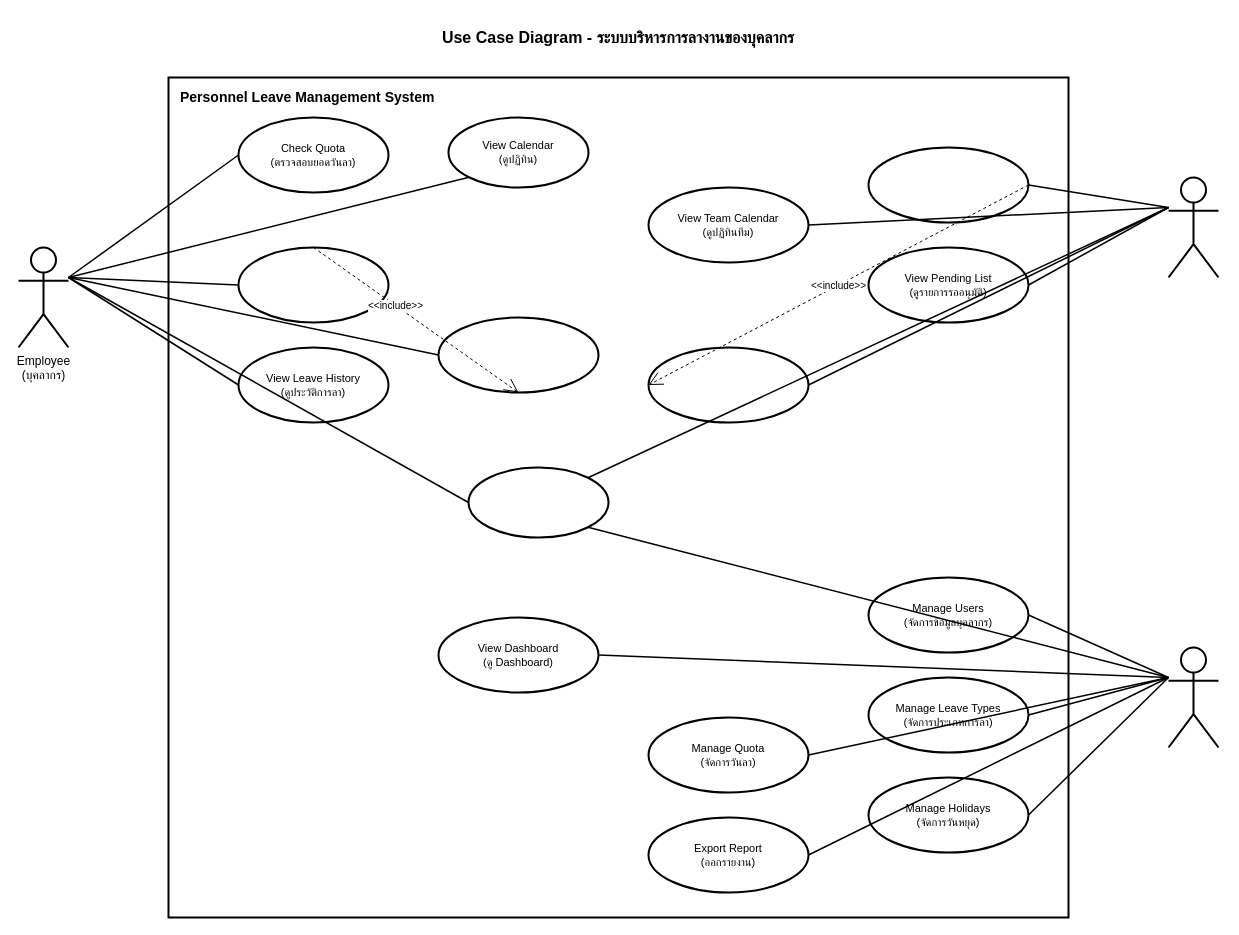
Image size: 1239x935. Some labels were removed from this diagram. Here are the shapes that lost their labels. From the top down, the box of each, then its label:
(867, 146, 1029, 223): Approve/Reject Leave (อนุมัติ/ปฏิเสธการลา)
(1167, 176, 1219, 278): Head (หัวหน้างาน)
(237, 246, 389, 323): Submit Leave Request (ยื่นคำขอลา)
(437, 316, 599, 393): Upload Attachment (อัปโหลดไฟล์แนบ)
(647, 346, 809, 423): View Attachments (ดูไฟล์แนบ)
(467, 466, 609, 538): Login
(1167, 646, 1219, 748): Admin (ผู้ดูแลระบบ)
